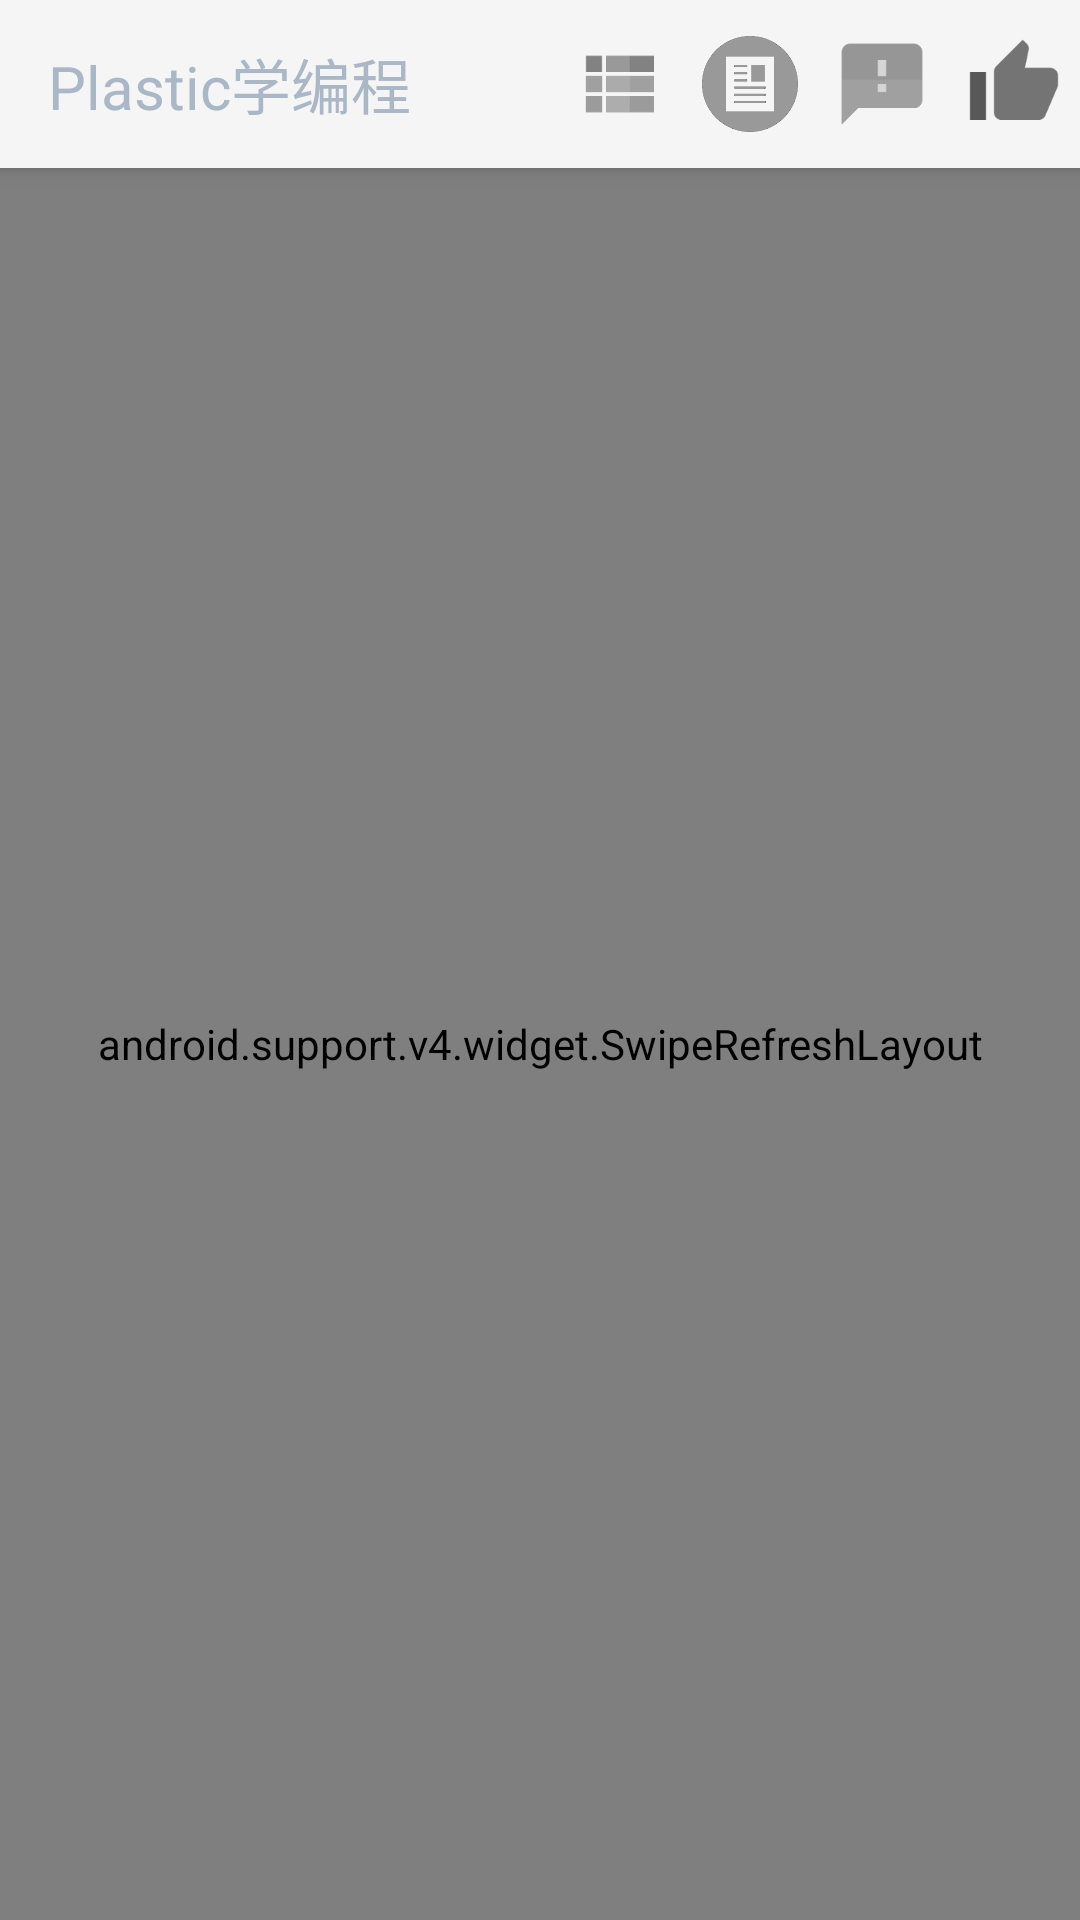

Screen size 1080*1920. Icon name, then its box in pixels as (x1,y1,x2,y2):
blog: (702,36,798,132)
sms failed easyicon: (841,43,923,124)
thumb up easyicon: (970,40,1058,120)
view list easyicon: (586,55,654,113)
